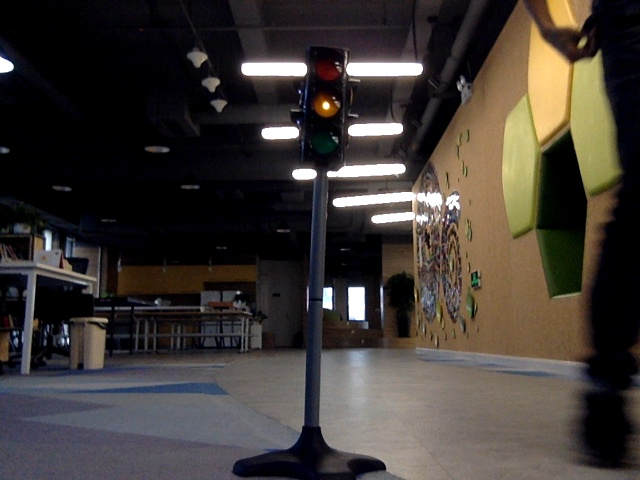yellow: (305, 53, 340, 150)
